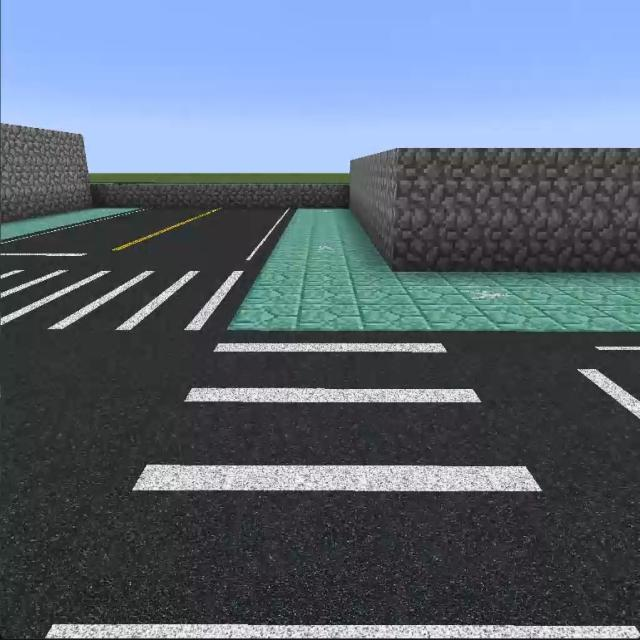crosswalk: (38, 332, 638, 639), (1, 267, 257, 336)
road: (1, 332, 208, 628), (468, 332, 635, 598), (3, 206, 297, 268)
sidewalk: (228, 209, 639, 336), (0, 208, 134, 239)
